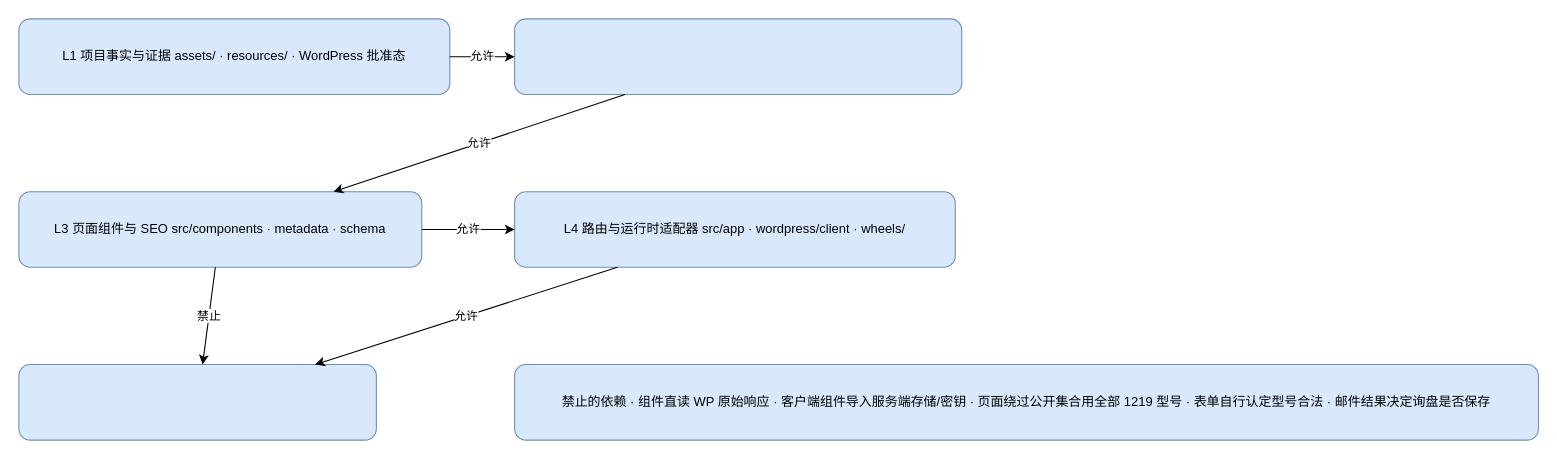
The diagram is 1557 pixels wide and 459 high, and some of its shapes have lost their labels. The shapes that lost their labels are listed below. From the top down, each one's centre as x and y in pixels, then its label:
At point (738, 56): "L2 类型化契约 src/content · WheelCatalogue · InquiryRecord".
At point (197, 401): "L5 外部系统 WordPress · MySQL · 邮件 · 部署平台".
